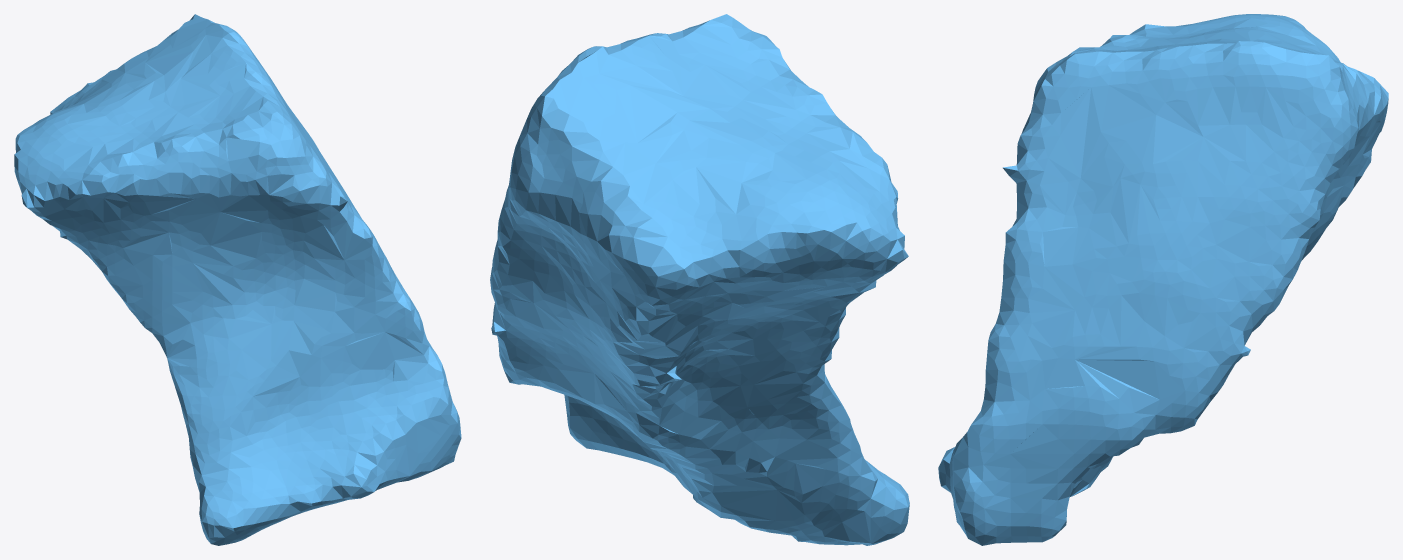
The model's file is Model_10123_LH__Secondary_somatosensory_cortex__internal_part_(S2I).obj.
The picture shows the model from 3 angles, left to right: view 1: azimuth 30°, elevation 25°; view 2: azimuth 150°, elevation 25°; view 3: azimuth 270°, elevation 25°; orthographic projection. The views are drawn at different scales.
Bounding box in the file's own units: 2.79 × 3.35 × 2.8.
